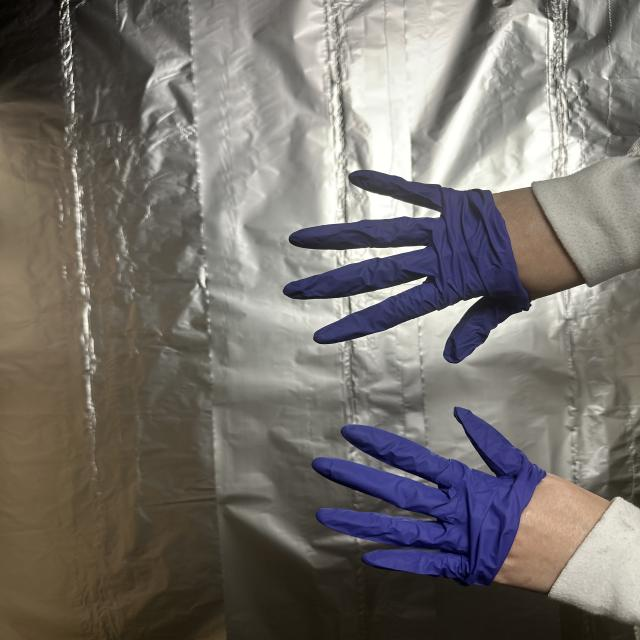glove_partial: (309, 404, 619, 598), (285, 165, 586, 364)
